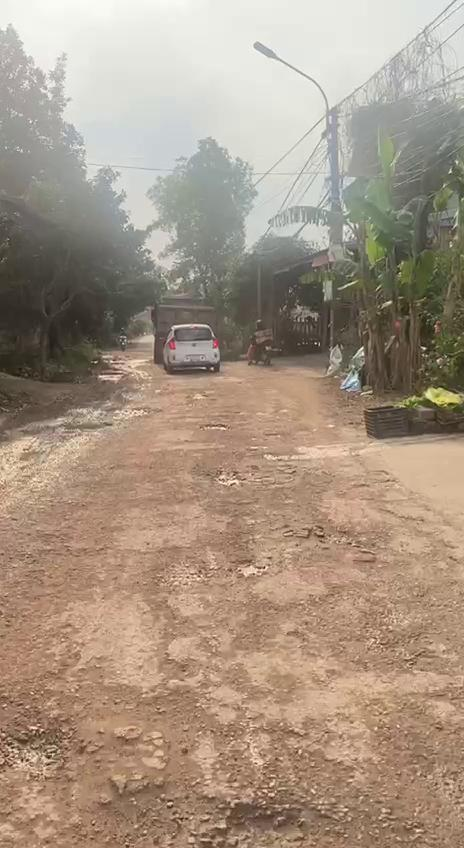pothole: (71, 778, 212, 848), (0, 708, 94, 776), (189, 801, 320, 848), (153, 551, 207, 588), (209, 469, 244, 490), (230, 557, 261, 578)
